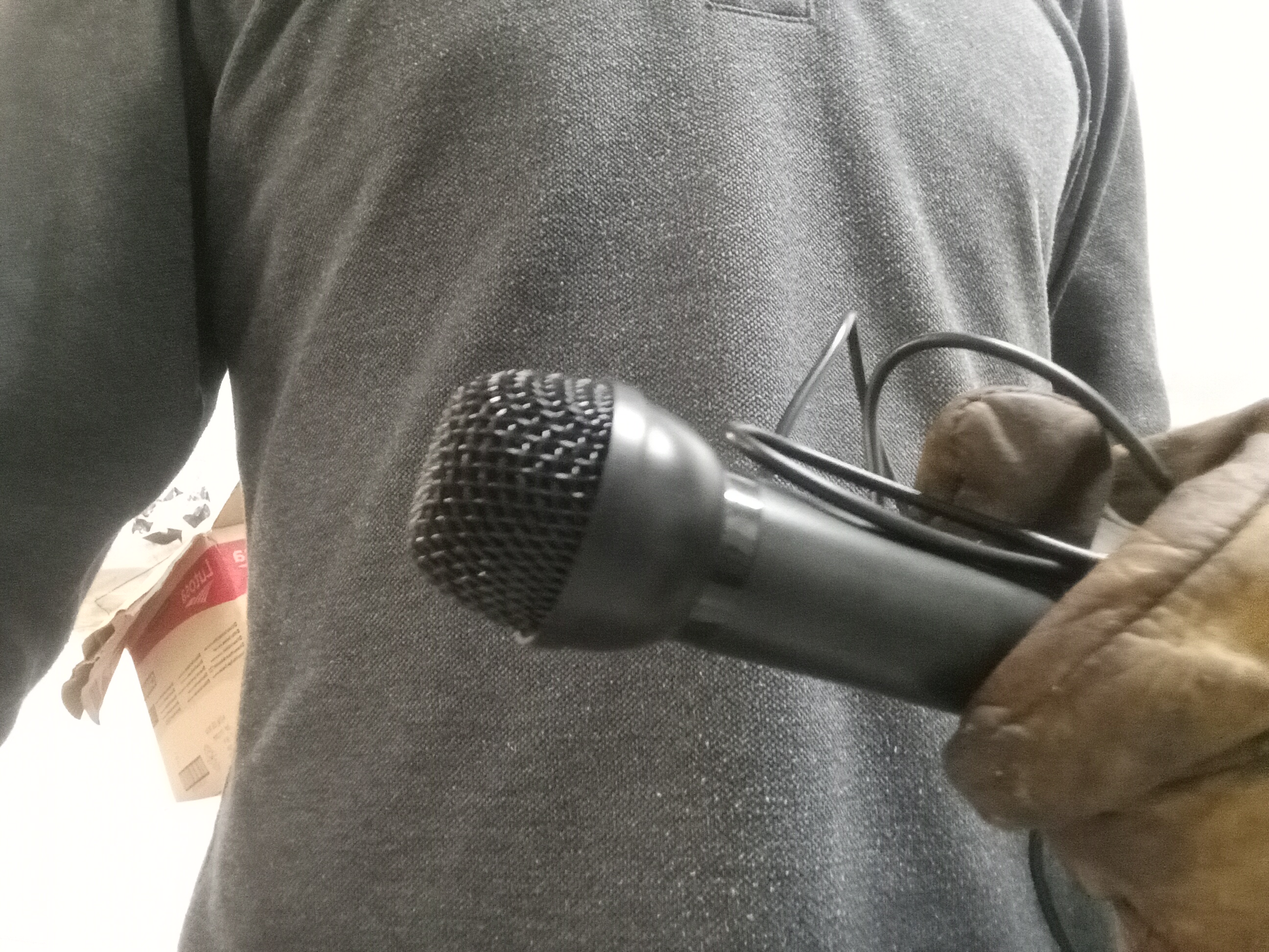Ordinario: (405, 308, 1112, 717)
